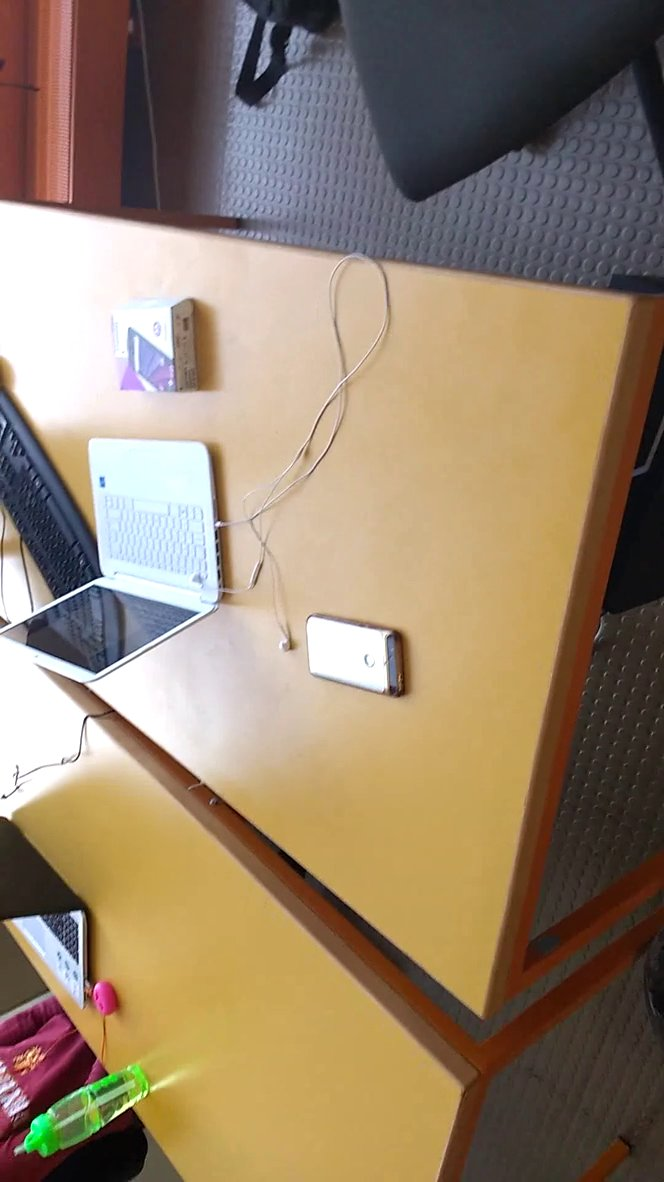laptop: (1, 426, 252, 698)
phone: (299, 605, 429, 712)
